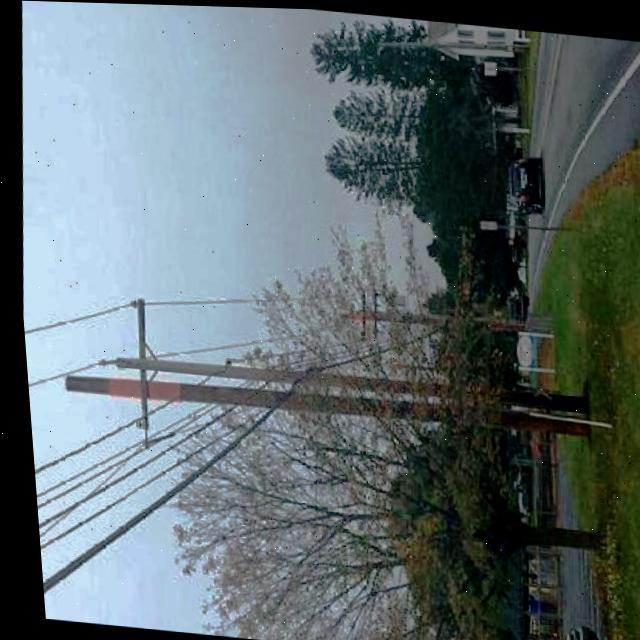poles: (106, 347, 583, 410)
wires: (25, 393, 258, 610), (19, 290, 122, 396), (149, 276, 250, 317), (151, 323, 256, 357)
